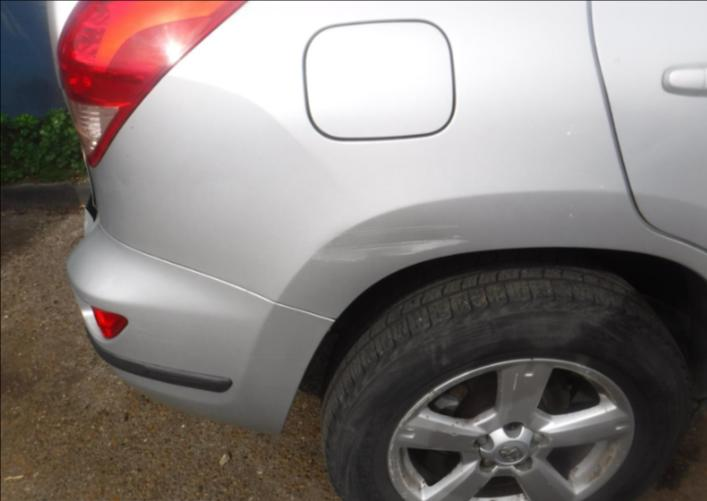Corrosion: (395, 366, 485, 433), (580, 437, 627, 489), (387, 440, 428, 499), (569, 362, 618, 405), (448, 410, 488, 428), (510, 453, 534, 475), (468, 493, 529, 501), (438, 461, 462, 481), (568, 462, 582, 491), (535, 431, 556, 450), (430, 427, 461, 438), (496, 372, 504, 397), (468, 437, 479, 452), (511, 372, 519, 392), (474, 484, 484, 494), (423, 414, 430, 420)
Dent: (107, 165, 132, 194)
Scratch: (306, 234, 470, 265), (339, 223, 461, 236), (562, 123, 579, 137), (566, 205, 575, 219), (596, 181, 606, 191)
